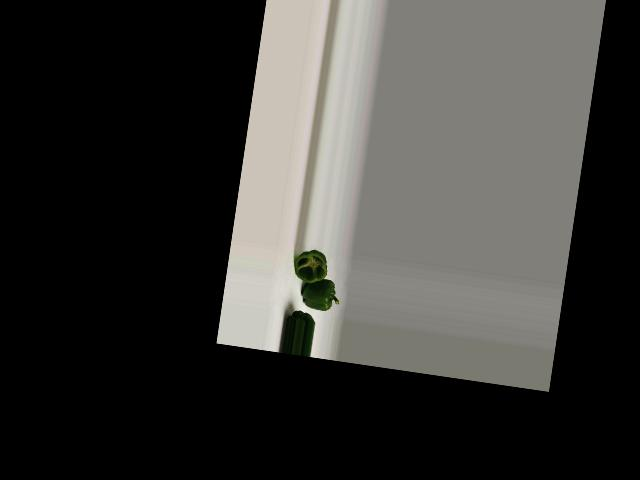bell_pepper: (289, 245, 333, 287)
